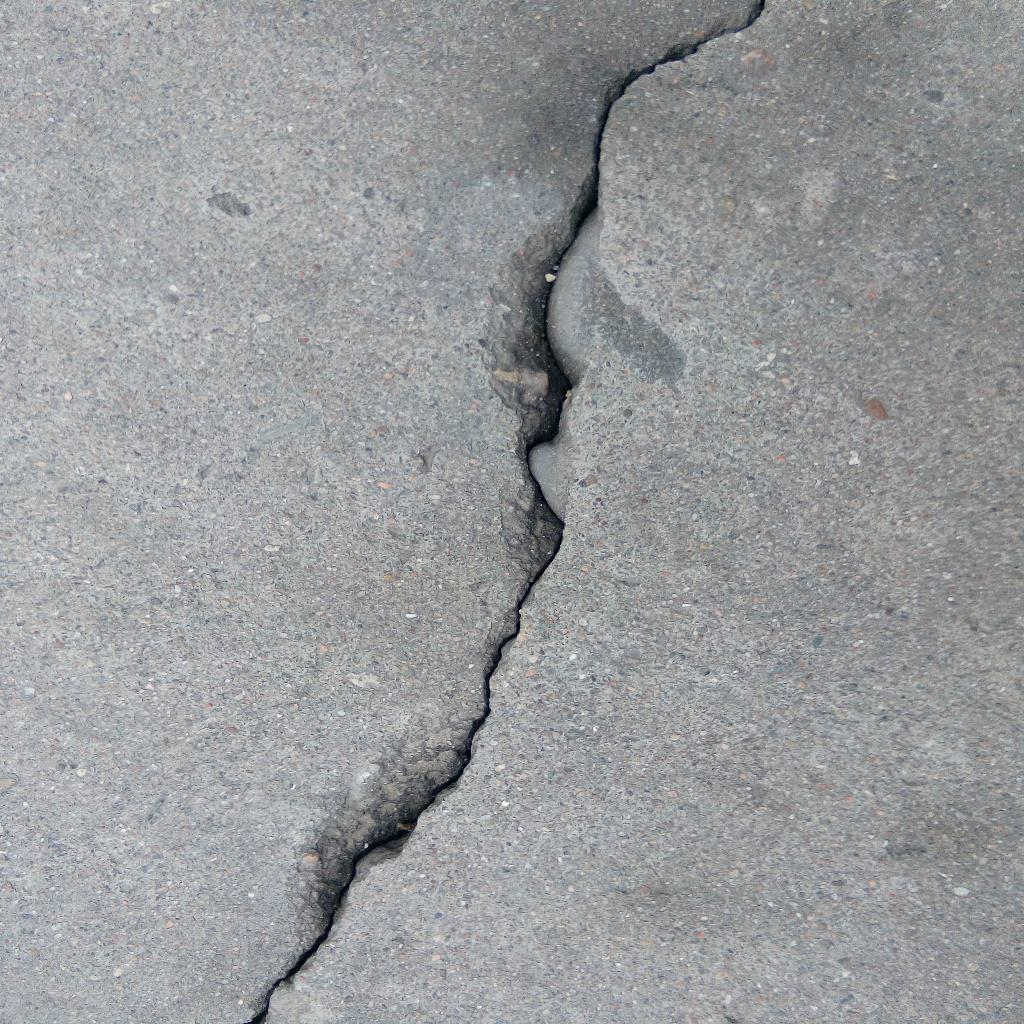Crack: (242, 1, 767, 1024)
